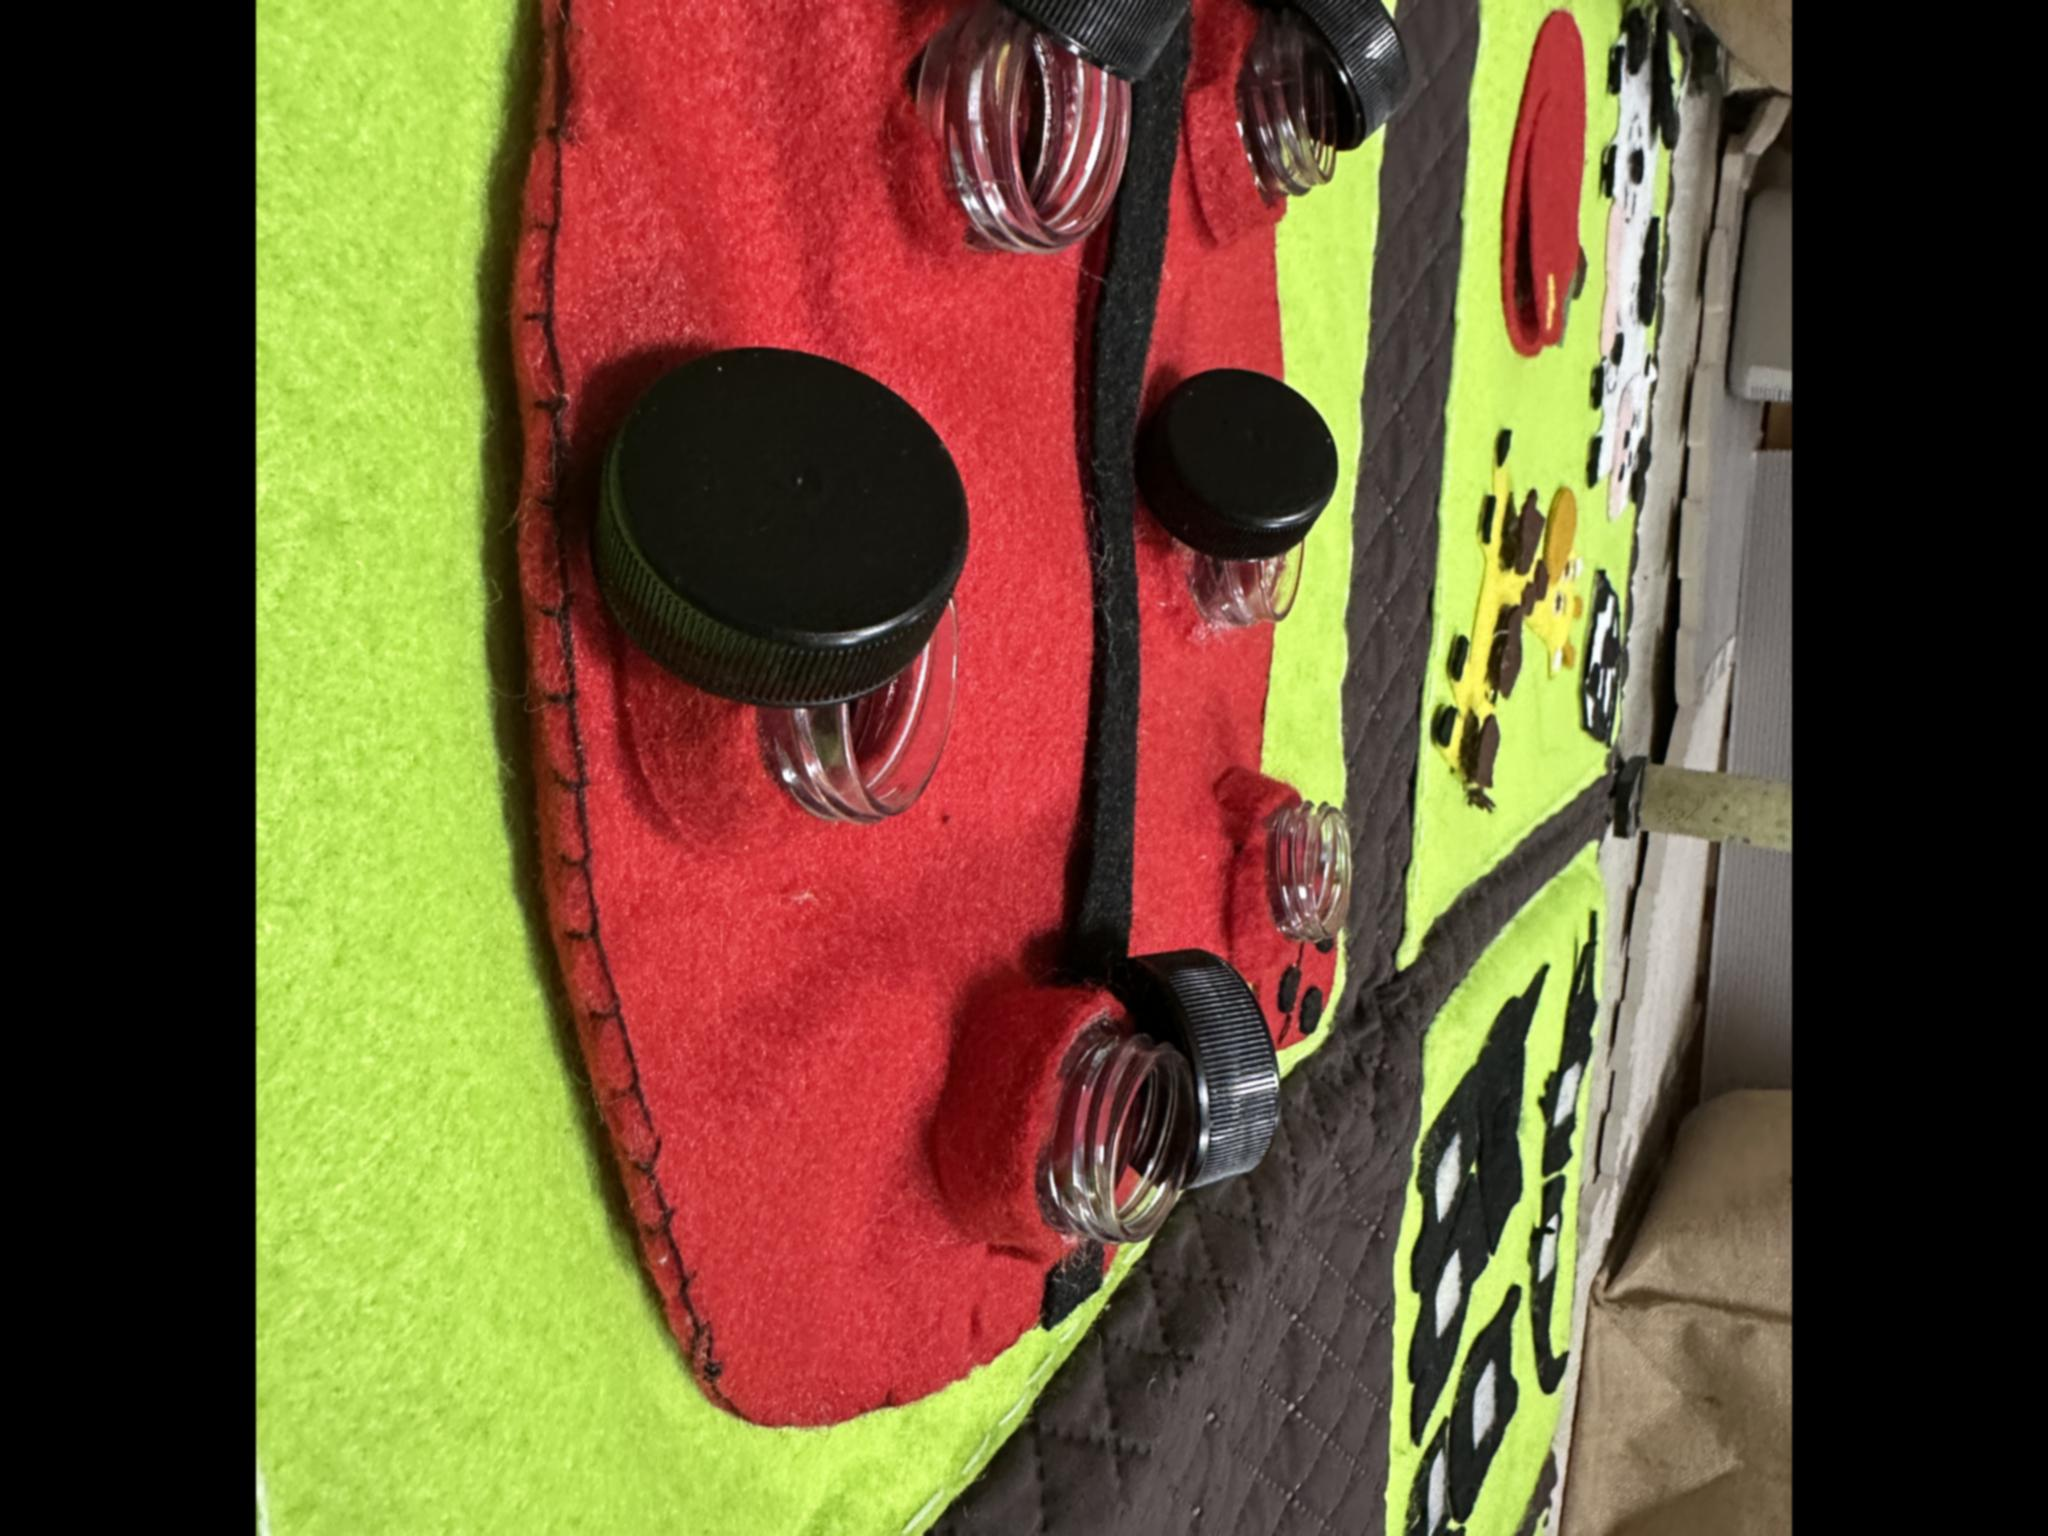cap_ng: (560, 313, 1010, 879), (900, 940, 1306, 1276), (863, 0, 1199, 278), (1122, 340, 1352, 672), (1195, 0, 1431, 253)
